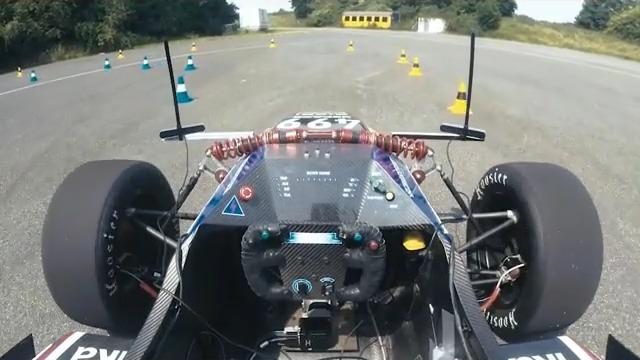blue_cone: (172, 75, 194, 104), (184, 55, 197, 72), (141, 56, 152, 70)
yellow_cone: (447, 81, 473, 115), (408, 57, 423, 77), (397, 47, 410, 64)
